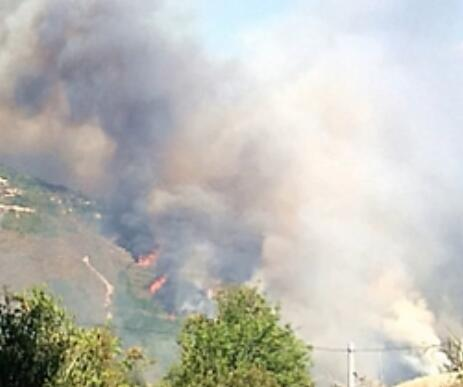yanwu: (1, 1, 463, 365)
